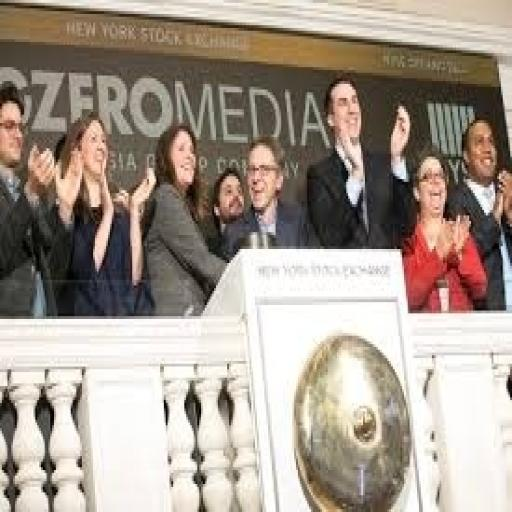clapping: (48, 109, 154, 316), (140, 120, 229, 316), (398, 143, 490, 313), (0, 78, 61, 316), (445, 112, 510, 310)
